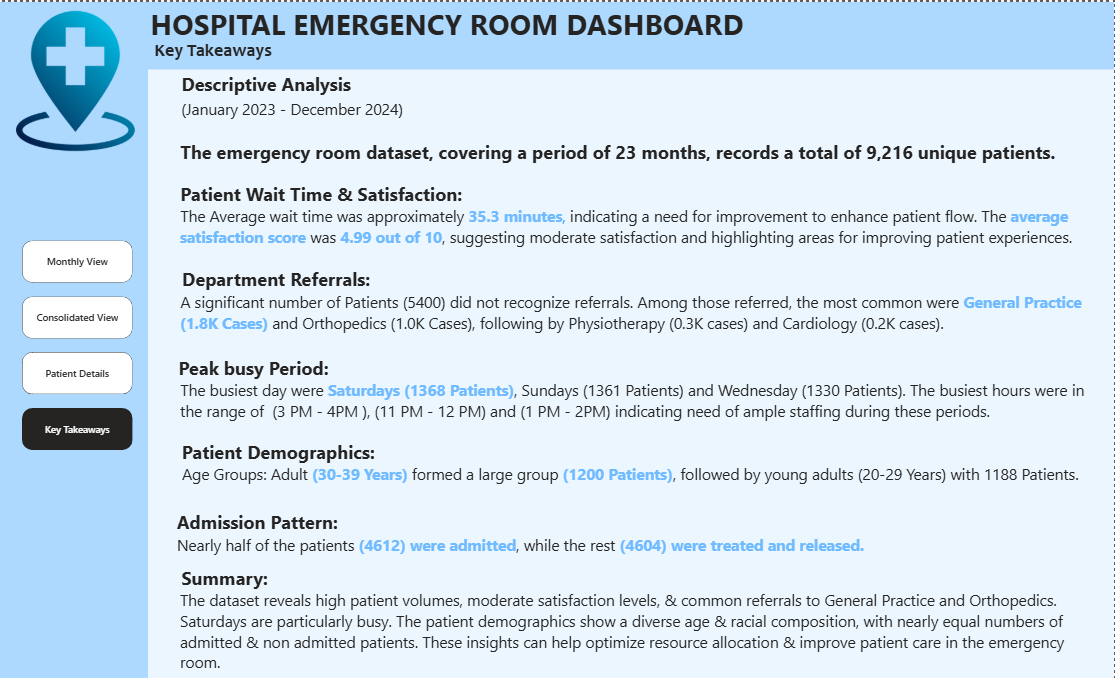

The dashboard page shown, as its layout file describes it:
{"tool":"powerbi","page":{"name":"Key Takeaways","canvas":[2300,1400],"ordinal":3},"visuals":[{"type":"shape","box":[0,0,309.3,1401.1],"z":0},{"type":"shape","box":[309.3,0,1991.8,139.2],"z":1000},{"type":"textbox","box":[309.3,0,1246.4,92.8],"z":2000},{"type":"textbox","box":[309.3,71.1,491.8,68],"z":3000},{"type":"image","box":[9.3,12.4,300,300],"z":4000},{"type":"textbox","box":[352.6,139.2,1908.3,117.5],"z":5000},{"type":"textbox","box":[352.6,1156.7,1908.3,244.3],"z":6000},{"type":"textbox","box":[352.6,278.4,1908.3,64.9],"z":7000},{"type":"textbox","box":[352.6,723.7,1908.3,145.4],"z":8000},{"type":"textbox","box":[352.6,365,1908.3,154.6],"z":9000},{"type":"textbox","box":[352.6,541.2,1908.3,182.5],"z":10000},{"type":"textbox","box":[352.6,896.9,1908.3,117.5],"z":11000},{"type":"textbox","box":[352.6,1042.3,1908.3,114.4],"z":12000},{"type":"pageNavigator","box":[49.5,491.8,228.9,433],"z":13000}]}

Visuals, with their boxes in screenshot pixels (x1, y1, x2, y2), scaled from the page's 2300x1400 canvas onto the 1115x678 screenshot:
shape: [x1=0, y1=0, x2=150, y2=677]
shape: [x1=150, y1=0, x2=1114, y2=67]
textbox: [x1=150, y1=0, x2=754, y2=45]
textbox: [x1=150, y1=34, x2=388, y2=67]
image: [x1=5, y1=6, x2=150, y2=151]
textbox: [x1=171, y1=67, x2=1096, y2=124]
textbox: [x1=171, y1=560, x2=1096, y2=677]
textbox: [x1=171, y1=135, x2=1096, y2=166]
textbox: [x1=171, y1=350, x2=1096, y2=421]
textbox: [x1=171, y1=177, x2=1096, y2=252]
textbox: [x1=171, y1=262, x2=1096, y2=350]
textbox: [x1=171, y1=434, x2=1096, y2=491]
textbox: [x1=171, y1=505, x2=1096, y2=560]
pageNavigator: [x1=24, y1=238, x2=135, y2=448]
